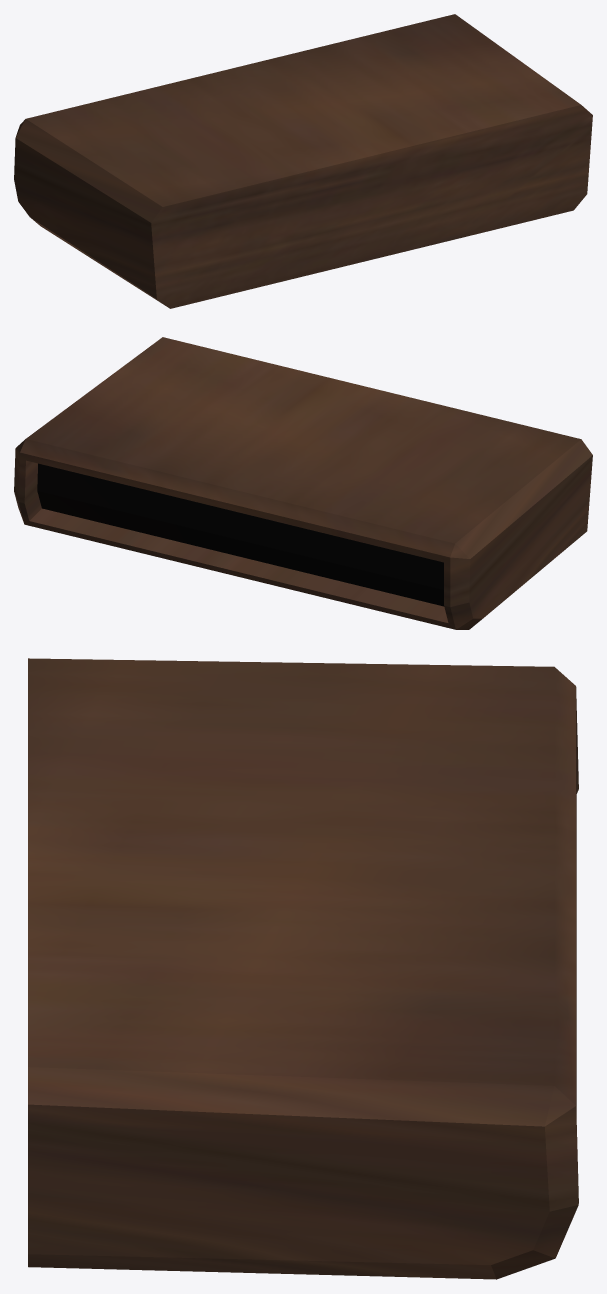
The model's file is Drawer1.fbx.
The picture shows the model from 3 angles, top to bottom: view 1: azimuth 30°, elevation 25°; view 2: azimuth 150°, elevation 25°; view 3: azimuth 270°, elevation 25°; orthographic projection. The views are drawn at different scales.
Visible parts, largest first — view 1: Cube.031; view 2: Cube.031; view 3: Cube.031.
Part boxes in pixels (left/top/right/bottom): Cube.031: left=14, top=14, right=592, bottom=308; Cube.031: left=14, top=337, right=592, bottom=629; Cube.031: left=28, top=658, right=578, bottom=1279.
Size of the model in its own units: 174 by 37.85 by 91.02.
Materials: 1 (1 with a texture image).
